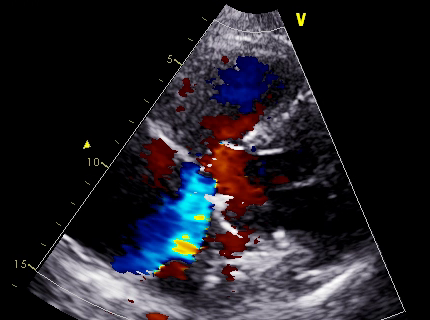TR: (179, 141, 223, 206)
